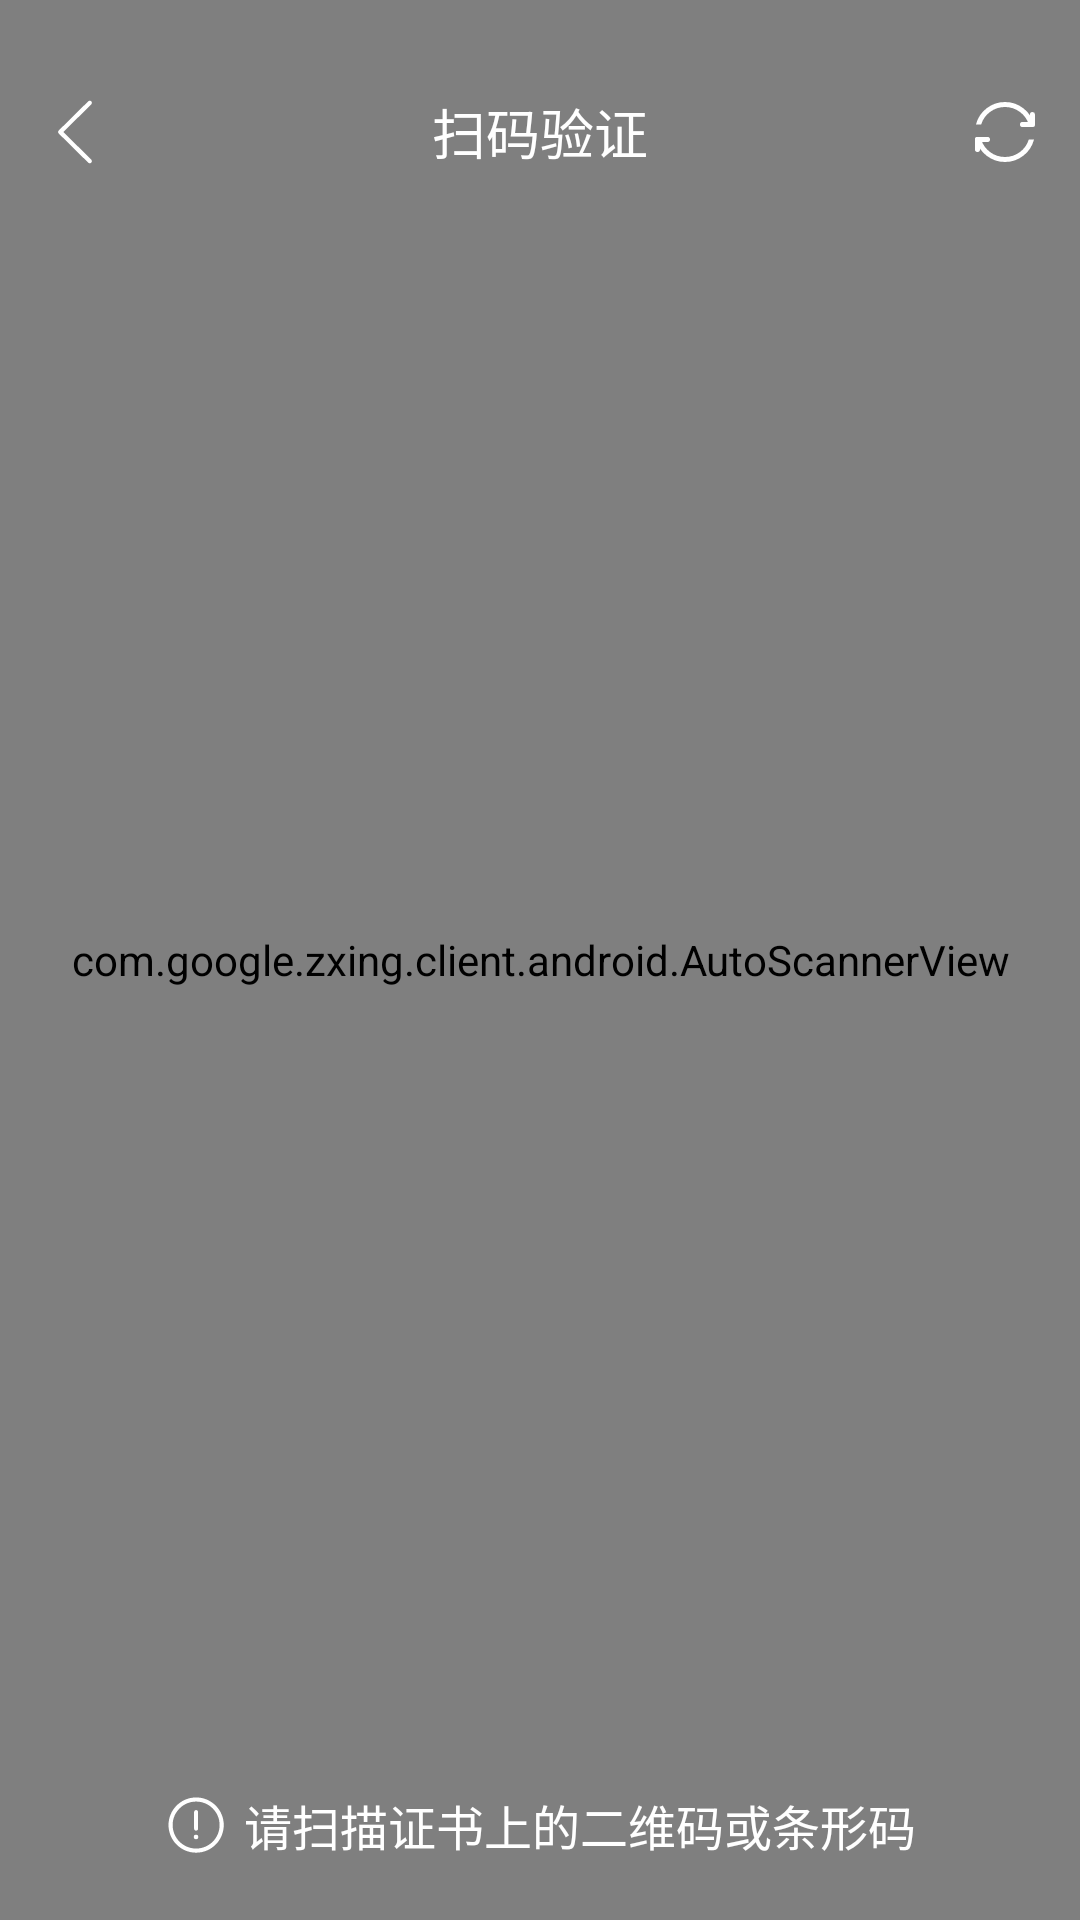

Icon bounding boxes for this 1080*1920 phone screenshot, format (x1, y1, x2, y2):
left arrow: (58, 100, 92, 164)
nfc reset: (975, 102, 1035, 162)
